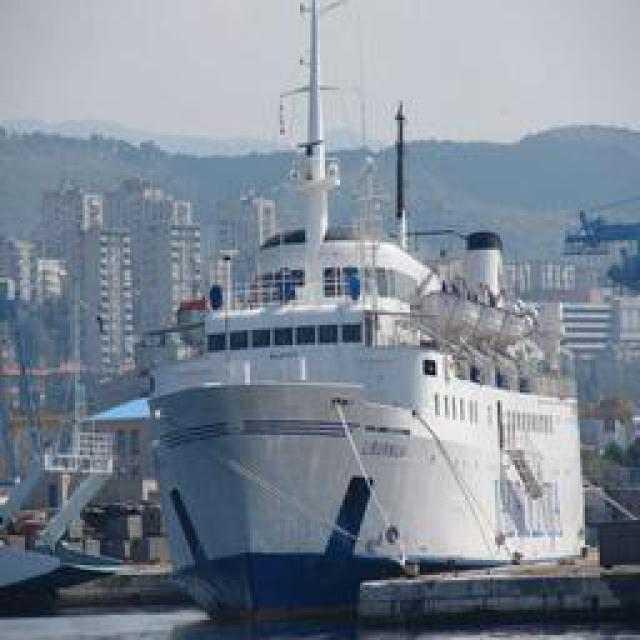Ship: (103, 130, 591, 583)
